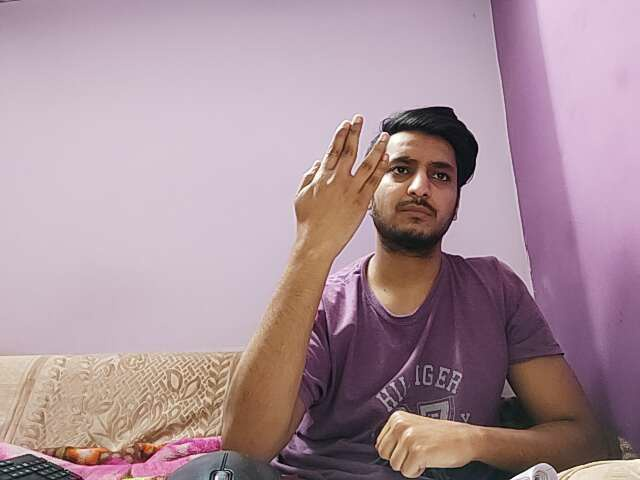LiveLong: (283, 114, 389, 281)
